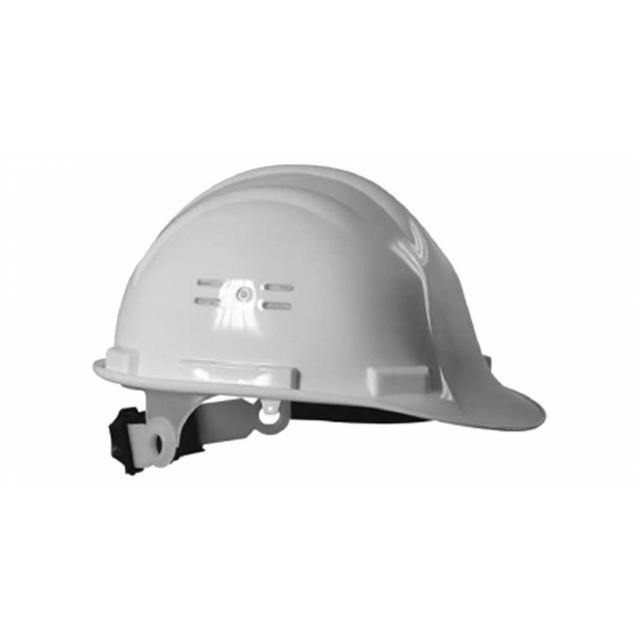safety_helmet: (92, 164, 548, 477)
